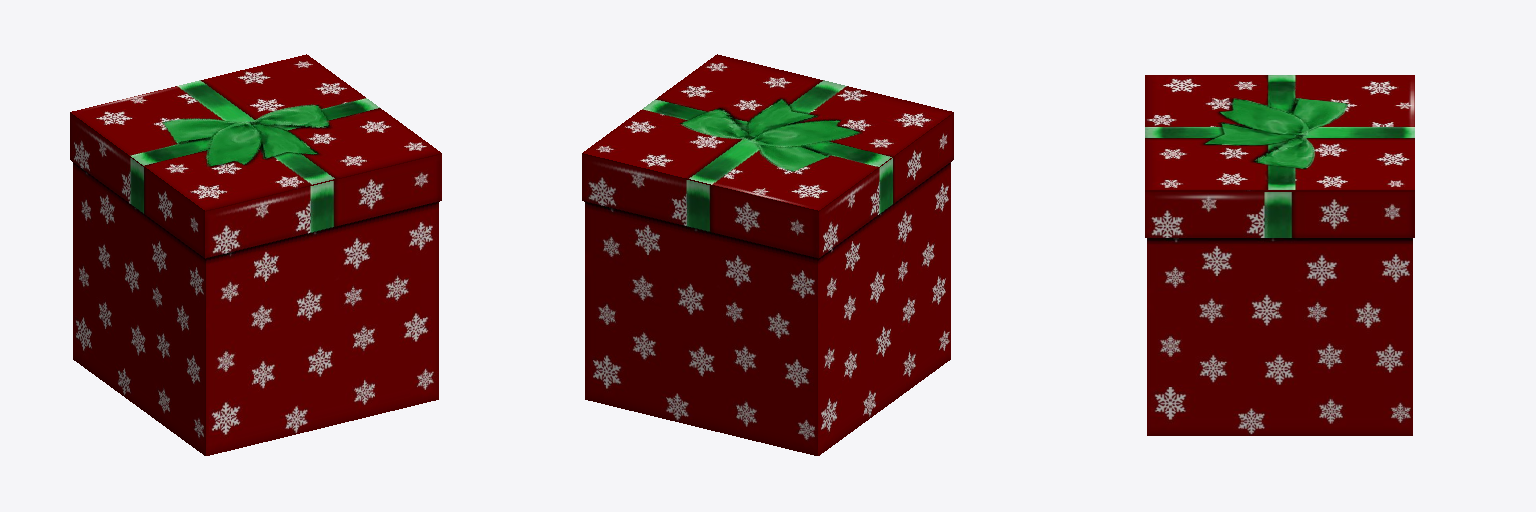
3 renders of one model, left to right at view 1: azimuth 30°, elevation 25°; view 2: azimuth 150°, elevation 25°; view 3: azimuth 270°, elevation 25°, orthographic.
Visible parts, largest first — view 1: Mesh1 Group1 Model; view 2: Mesh1 Group1 Model; view 3: Mesh1 Group1 Model.
Part boxes in pixels (x1,y1,x2,y2): Mesh1 Group1 Model: (70,54,441,455); Mesh1 Group1 Model: (582,54,953,455); Mesh1 Group1 Model: (1145,75,1414,435).
Bounding box in the file's own units: 44.85 × 44.66 × 44.23.
3 materials, 3 textured.